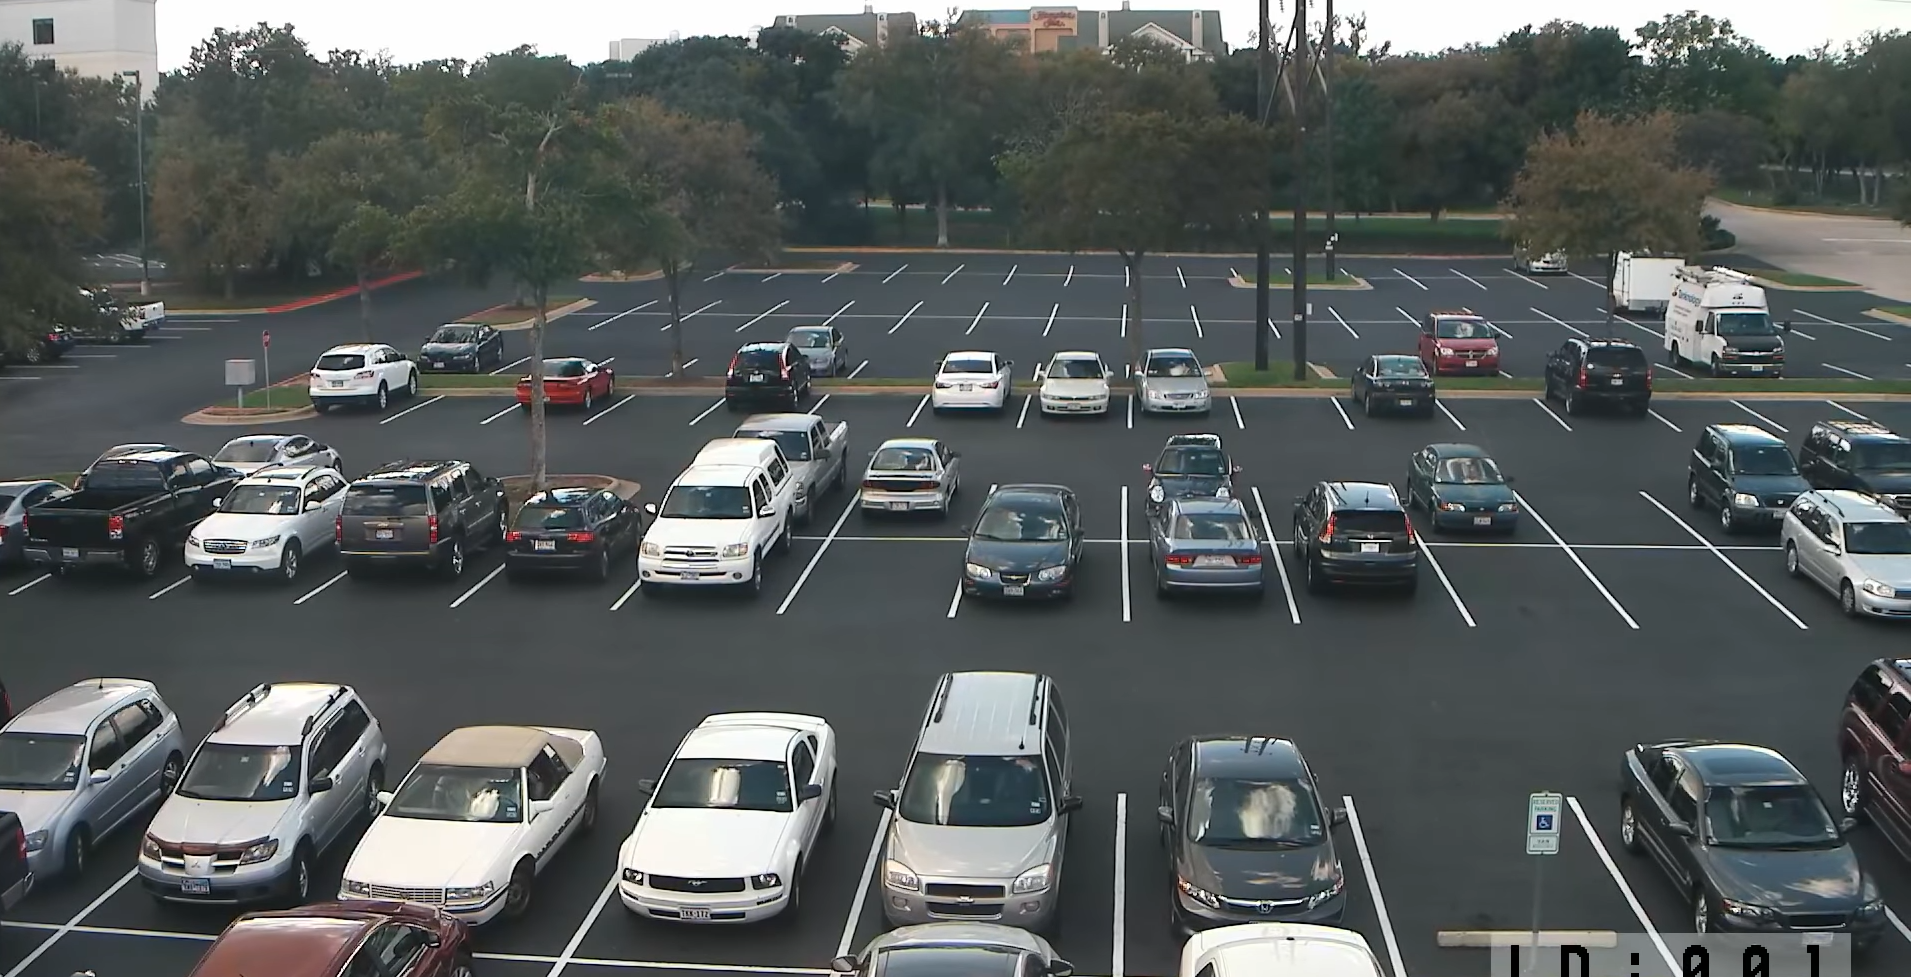spot: (904, 768, 1058, 898), (419, 768, 571, 898), (1421, 801, 1575, 931), (1170, 778, 1323, 907), (1667, 788, 1820, 917), (659, 776, 812, 906), (181, 751, 334, 881), (0, 714, 153, 844), (990, 535, 1073, 609), (1642, 548, 1723, 623), (1811, 517, 1892, 592), (1485, 553, 1566, 628), (1319, 525, 1400, 599), (1154, 536, 1235, 611), (847, 540, 928, 614), (673, 527, 754, 602), (518, 520, 599, 594), (356, 515, 437, 589), (224, 511, 305, 586), (62, 506, 143, 581), (1573, 475, 1637, 536), (1837, 445, 1901, 506), (1282, 457, 1345, 518), (1156, 450, 1220, 511), (1033, 457, 1096, 518), (1714, 460, 1776, 521), (1436, 464, 1499, 525), (746, 432, 808, 493), (877, 454, 941, 513), (434, 323, 485, 370), (1325, 323, 1377, 370), (843, 384, 893, 431), (1049, 373, 1099, 420), (1149, 373, 1198, 420), (1263, 375, 1313, 422), (1375, 370, 1425, 417), (1474, 378, 1524, 425), (1587, 373, 1637, 420), (739, 365, 789, 412), (608, 328, 658, 375), (789, 328, 838, 375), (876, 329, 926, 376), (967, 326, 1017, 374), (1048, 322, 1098, 369), (1433, 322, 1482, 369), (1514, 324, 1563, 371), (1605, 324, 1654, 371), (946, 373, 995, 419), (1676, 383, 1725, 429), (1771, 383, 1821, 429), (633, 371, 683, 417), (532, 368, 582, 414), (426, 376, 476, 422), (328, 368, 377, 414), (536, 322, 586, 368), (695, 331, 745, 378), (1147, 317, 1197, 363)
